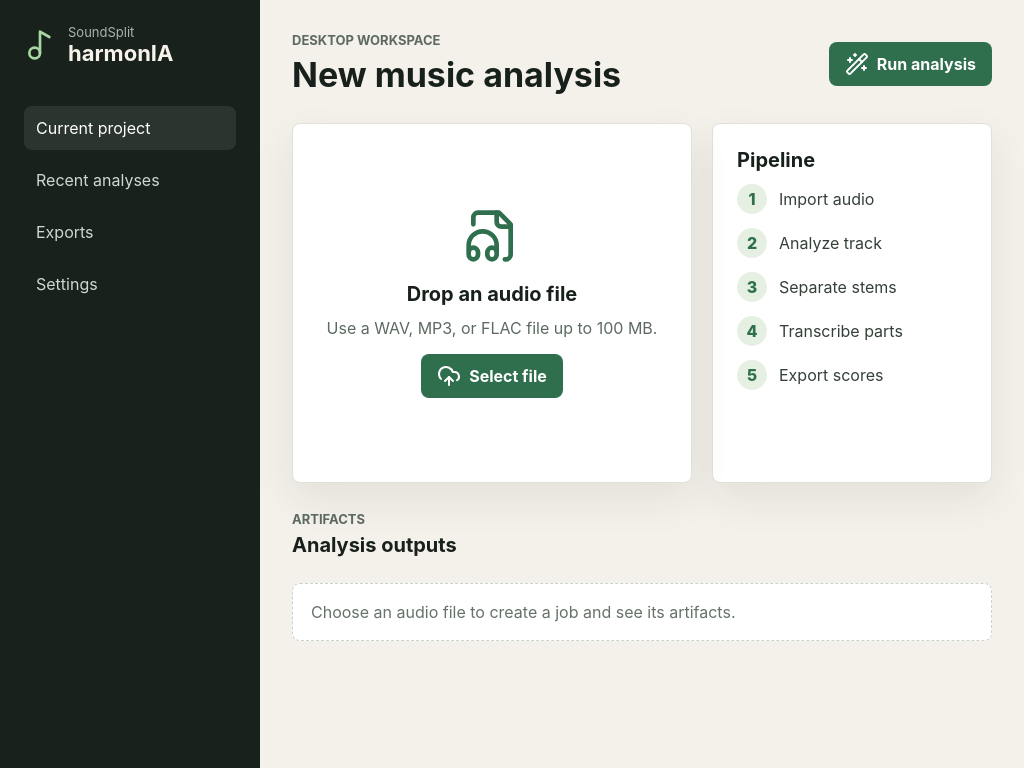
Test: App › asks for an audio file before starting analysis
Click the button "Run analysis". click: [910, 64]
box: [829,42,992,86]
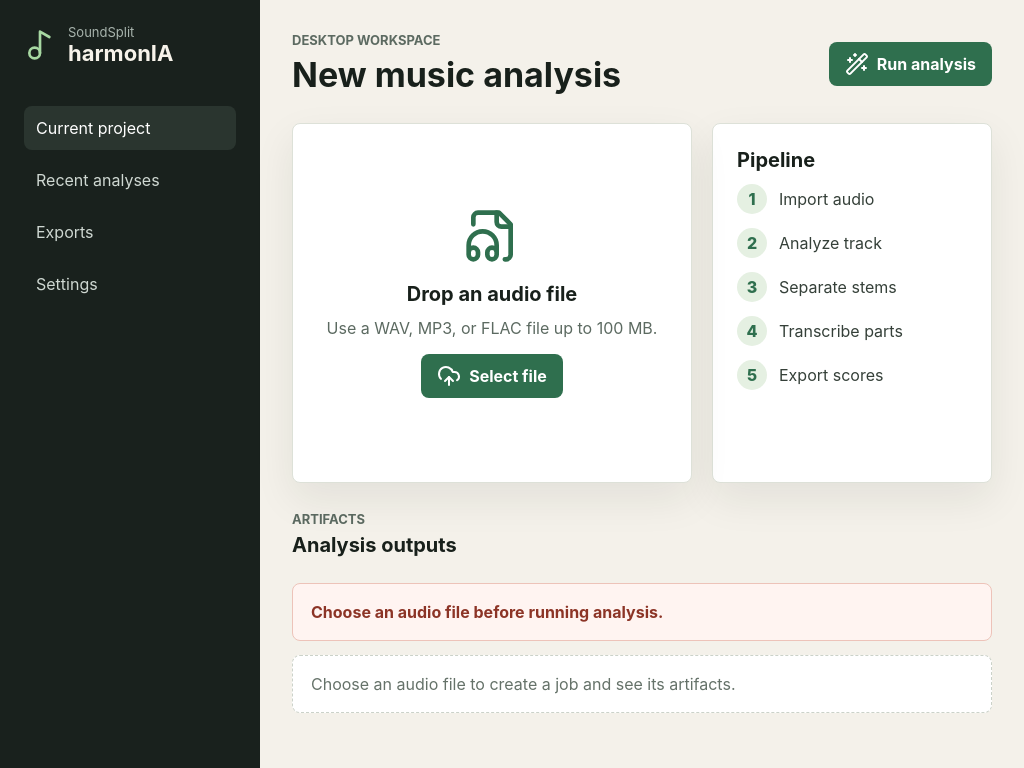
expect the message reads "Choose an audio file before running analysis.": met, box [311,602,663,622]
